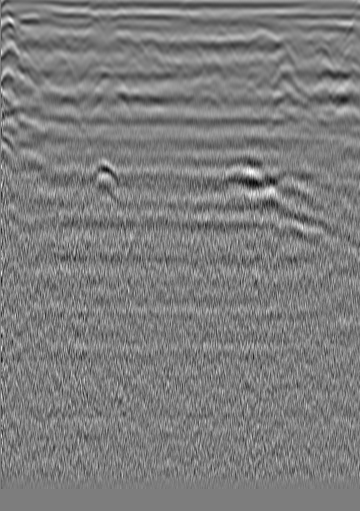가스: (88, 156, 120, 187)
상수: (327, 35, 347, 55)
오수: (17, 26, 37, 46)
우수: (200, 34, 220, 54)
